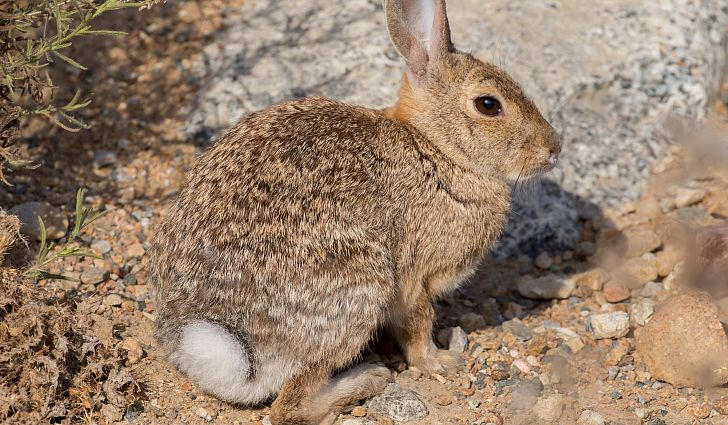bunny: (110, 2, 588, 425)
